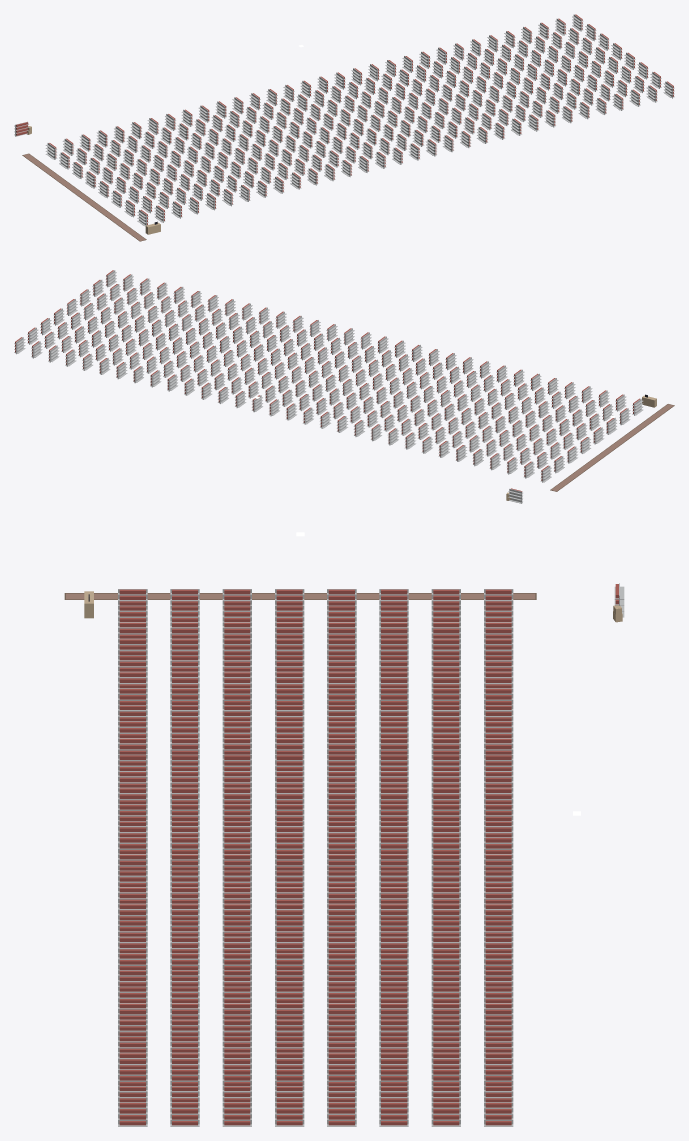
Rendered from fine-s0.glb.
3 renders of one model, top to bottom at view 1: azimuth 30°, elevation 25°; view 2: azimuth 150°, elevation 25°; view 3: azimuth 270°, elevation 25°, orthographic. The views are drawn at different scales.
Visible parts, largest first — view 1: soft-s0; view 2: soft-s0; view 3: soft-s0.
Part boxes in pixels (x1,y1,x2,y2): soft-s0: [22, 153, 146, 241]; soft-s0: [550, 404, 674, 491]; soft-s0: [64, 593, 536, 599].
Size of the model in its own units: 77.54 by 4.23 by 34.28.
